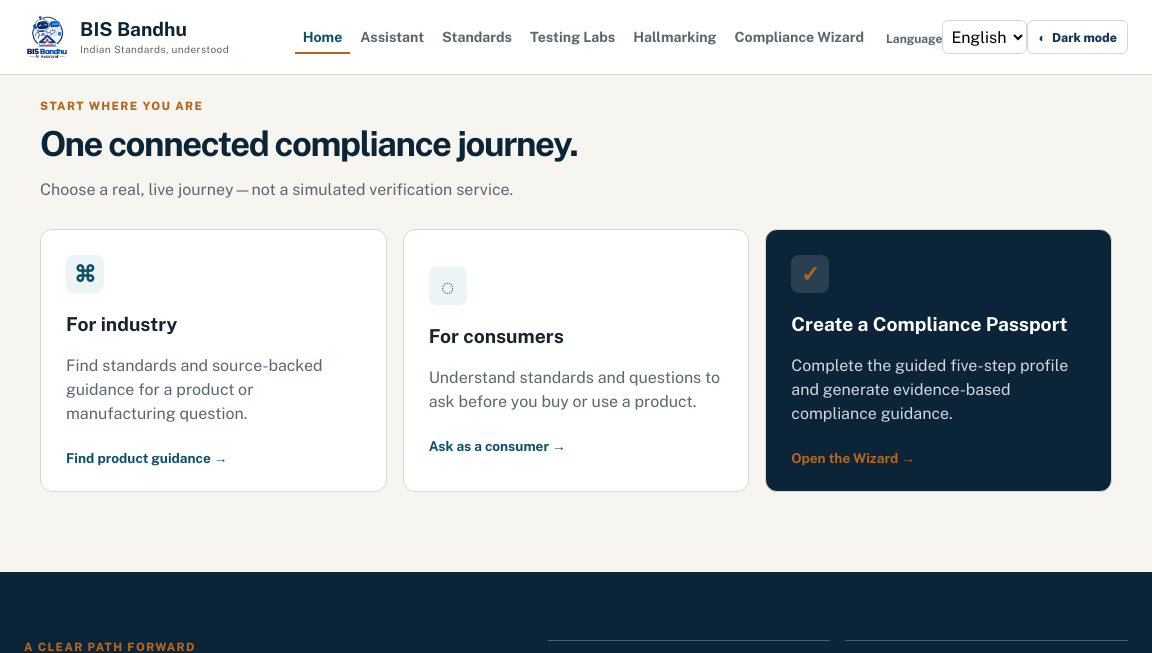
opens the Industry card as an editable Manufacturer journey without a chat request
The image size is (1152, 653).
(page scrolled)
Click the button "For industry": click(213, 361) [40,229,387,492]
(page scrolled)
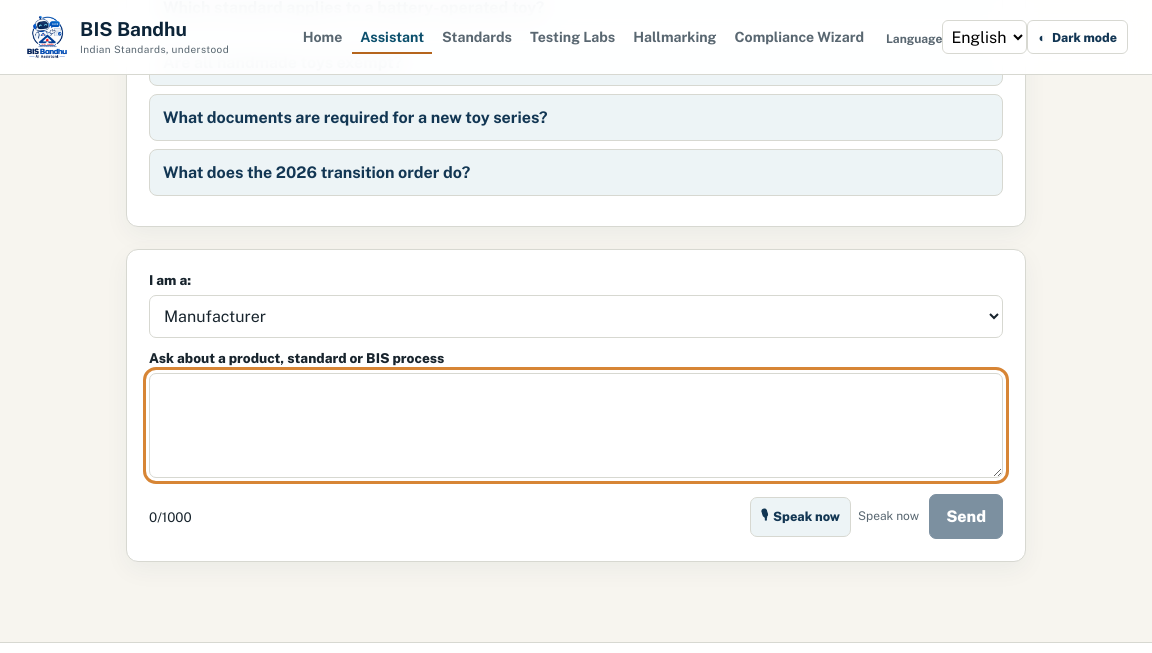
Expected: the dropdown labelled "I am a:" shows "Manufacturer", [149,295,1003,338]
